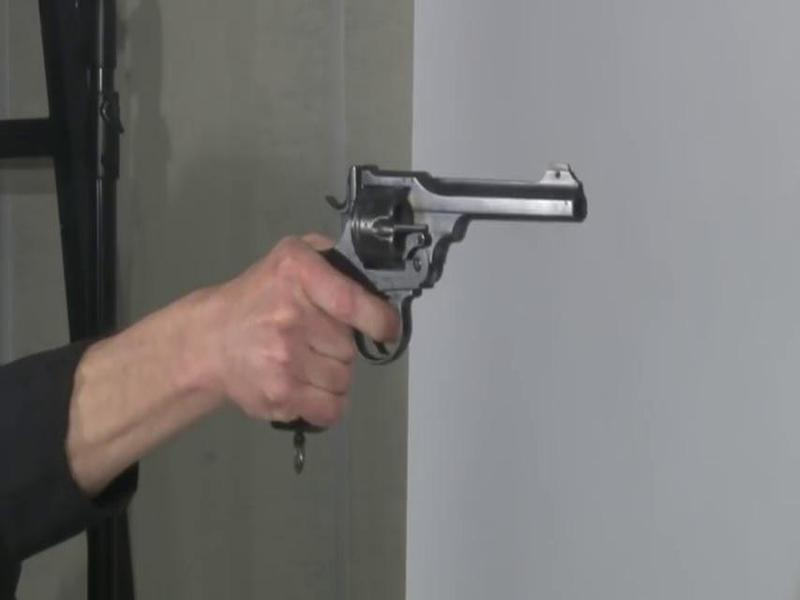Revolver: (286, 134, 620, 390)
